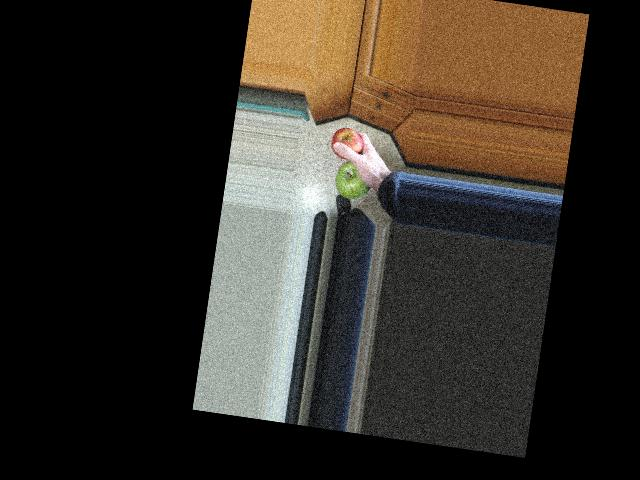apple: (330, 158, 377, 204)
